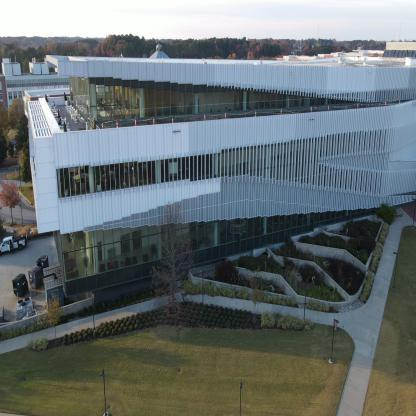Hunt Library: (22, 33, 415, 295)
